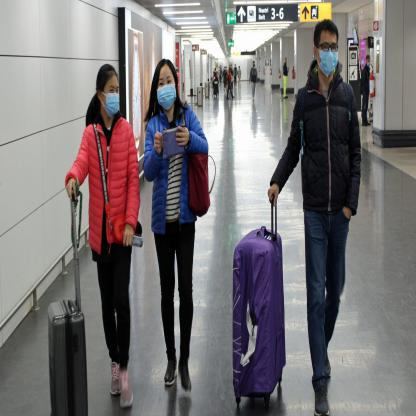Not_Wearing_Mask: (285, 58, 287, 63)
Wearing_Mask: (318, 37, 338, 77), (156, 75, 177, 112), (102, 81, 121, 118), (367, 58, 370, 69), (252, 62, 255, 67), (214, 68, 216, 73), (225, 66, 227, 71), (234, 64, 236, 68), (224, 67, 226, 70), (238, 66, 240, 69)
